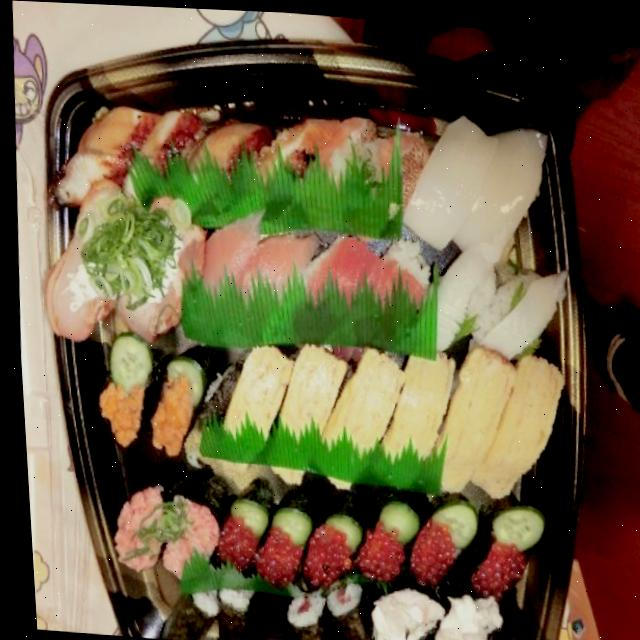寿司卷物: (12, 29, 612, 640)
